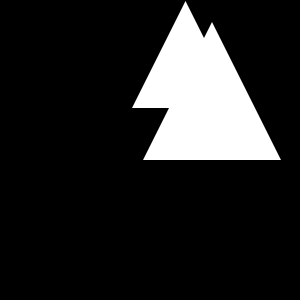triangle: (143, 22, 281, 160), (132, 1, 239, 108)
